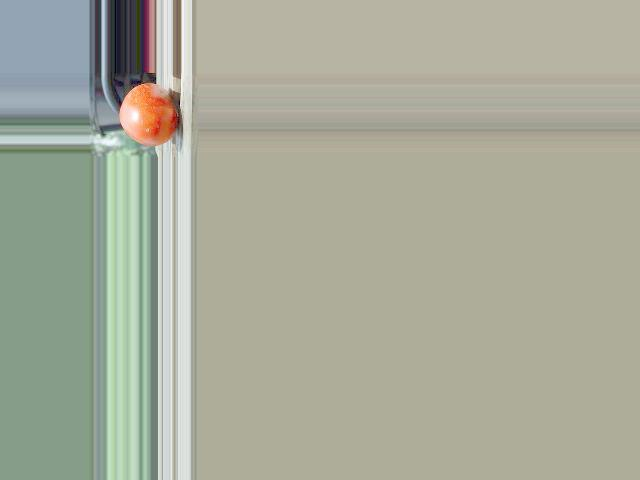tomato: (119, 83, 176, 146)
